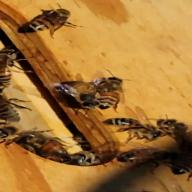Bee: (92, 113, 192, 137), (16, 122, 76, 158), (88, 72, 136, 116), (22, 2, 72, 37)
